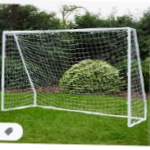goals: (1, 24, 149, 127)
